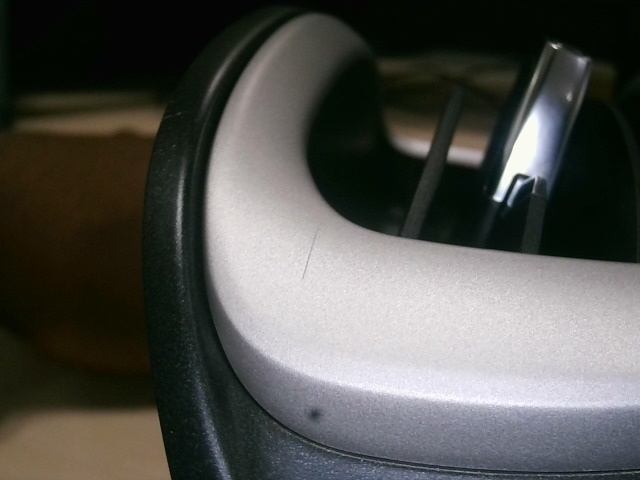NG: (293, 217, 327, 279), (157, 112, 190, 153)
